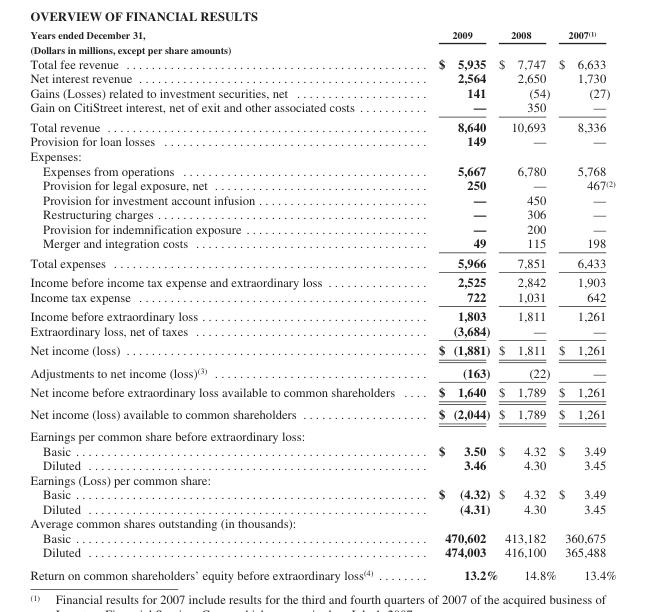table: (29, 28, 615, 581)
table column: (29, 28, 416, 581), (416, 28, 497, 581), (497, 28, 556, 581), (556, 28, 615, 581)
table column header: (29, 28, 615, 42)
table projected row header: (29, 424, 615, 443), (29, 515, 615, 530), (29, 148, 615, 162), (29, 472, 615, 486), (29, 42, 615, 55)
table row: (29, 402, 615, 424), (29, 360, 615, 381), (29, 381, 615, 402), (29, 340, 615, 360), (29, 252, 615, 271), (29, 424, 615, 443), (29, 544, 615, 563), (29, 271, 615, 289), (29, 563, 615, 581), (29, 99, 615, 116), (29, 116, 615, 133), (29, 235, 615, 252), (29, 289, 615, 306), (29, 306, 615, 323), (29, 323, 615, 340), (29, 55, 615, 70), (29, 70, 615, 85), (29, 133, 615, 148), (29, 162, 615, 177), (29, 191, 615, 206), (29, 220, 615, 235), (29, 457, 615, 472), (29, 486, 615, 501), (29, 515, 615, 530), (29, 28, 615, 42), (29, 85, 615, 99), (29, 148, 615, 162), (29, 177, 615, 191), (29, 206, 615, 220), (29, 443, 615, 457), (29, 472, 615, 486), (29, 501, 615, 515), (29, 530, 615, 544), (29, 42, 615, 55)
